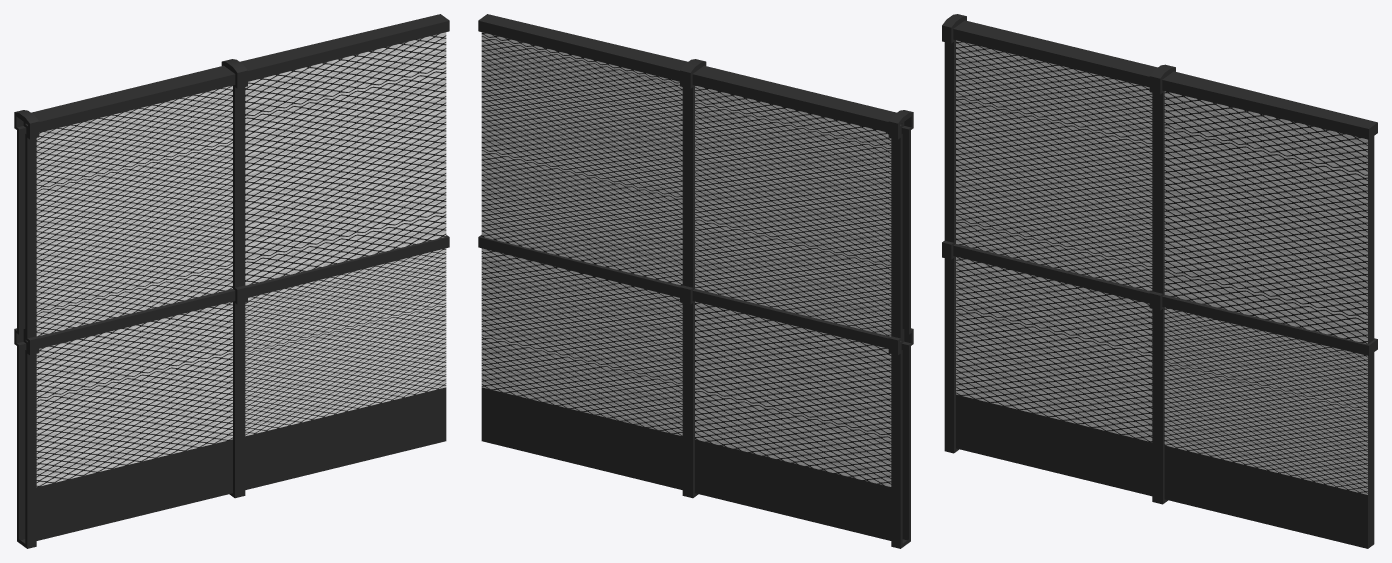
Rendered from barr2.fbx.
The picture shows the model from 3 angles, left to right: view 1: azimuth 30°, elevation 25°; view 2: azimuth 150°, elevation 25°; view 3: azimuth 330°, elevation 25°; orthographic projection.
Visible parts, largest first — view 1: pCube14; view 2: pCube14; view 3: pCube14.
Boxes of the visible parts, <box> form: pCube14: <box>14,14,449,548</box>; pCube14: <box>478,14,913,548</box>; pCube14: <box>942,14,1377,548</box>.
Bounding box in the file's own units: 1536 × 1491 × 98.38.
Materials: 2 (1 with a texture image).
